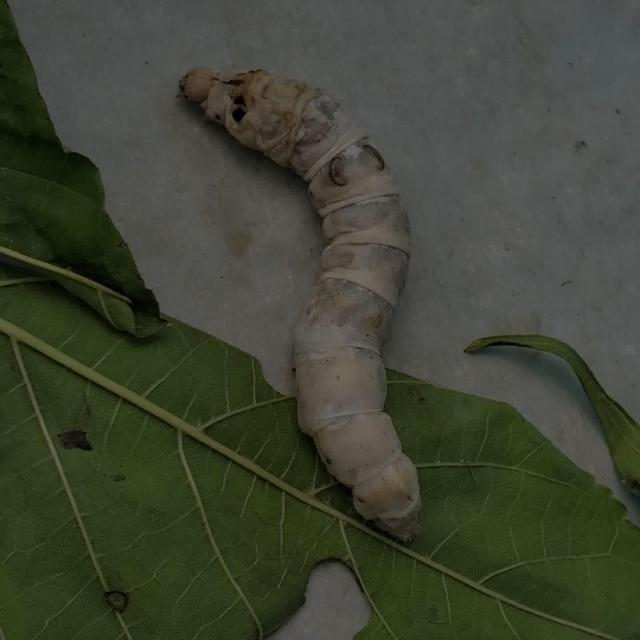Grasserie: (172, 60, 458, 547)
